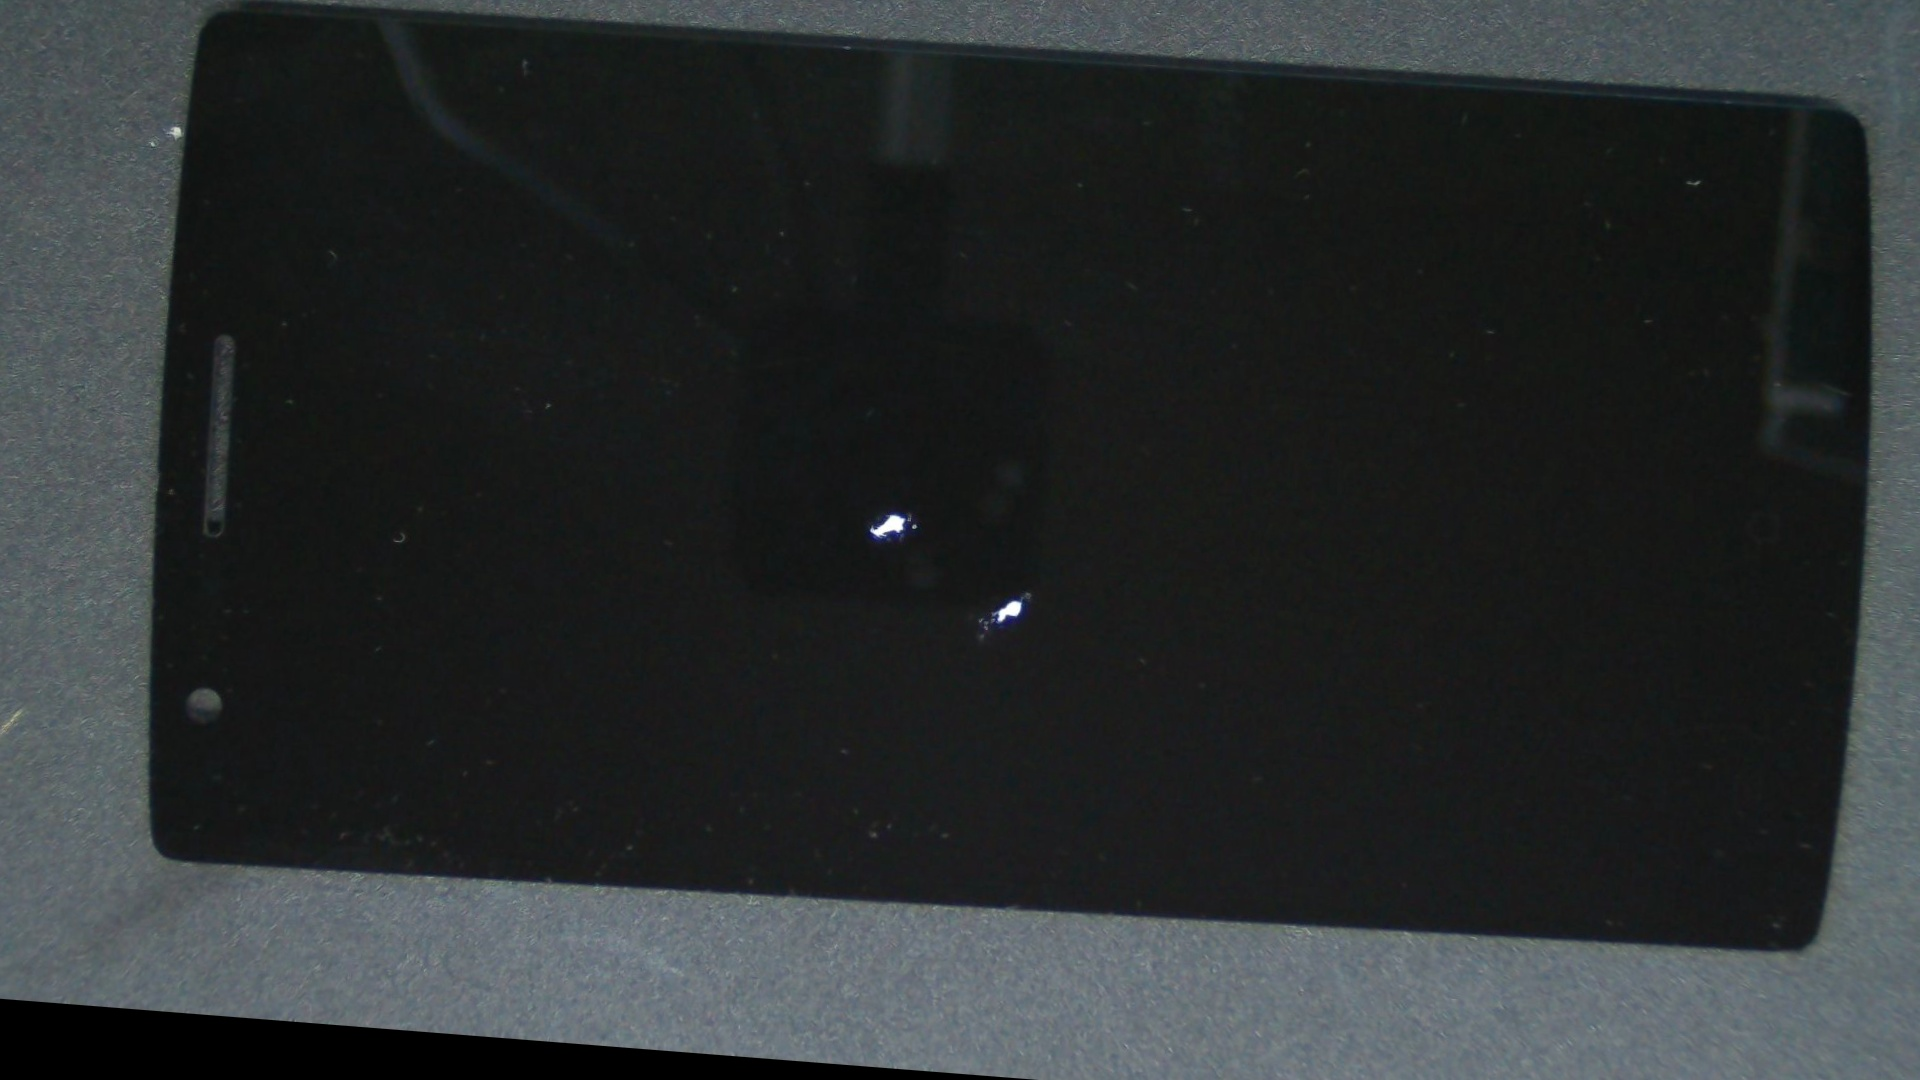oil: (455, 214, 1593, 968), (401, 175, 1416, 849)
